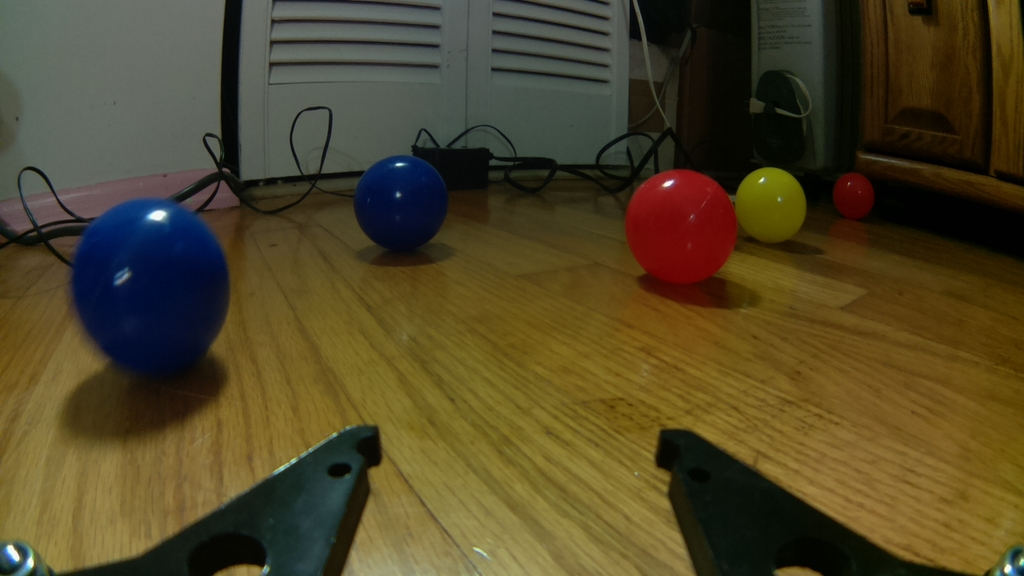ball: (831, 170, 876, 220)
